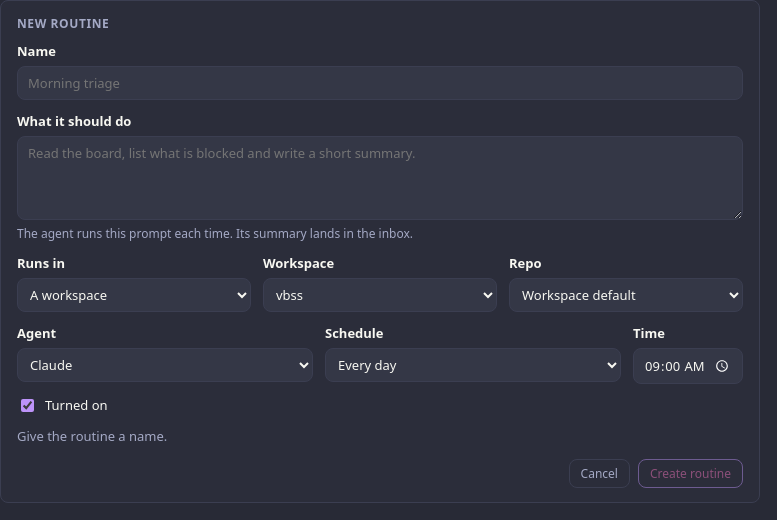
Test case: a folder target swaps the workspace pickers for a folder input and sends the cwd
In the field with placeholder "Morning triage": (380, 83) [17, 66, 743, 100], type "Triage"
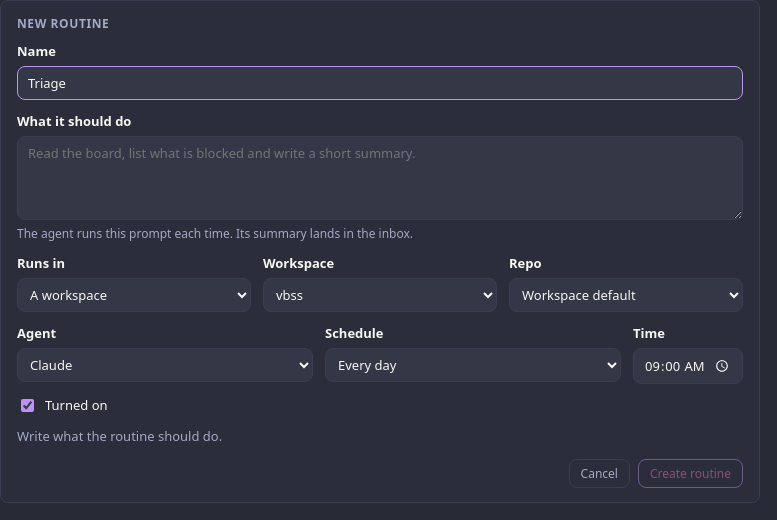
In the text box with placeholder "Read the board, list what is blocked and write a short summary.": (380, 178) [17, 136, 743, 220], type "Check the board"
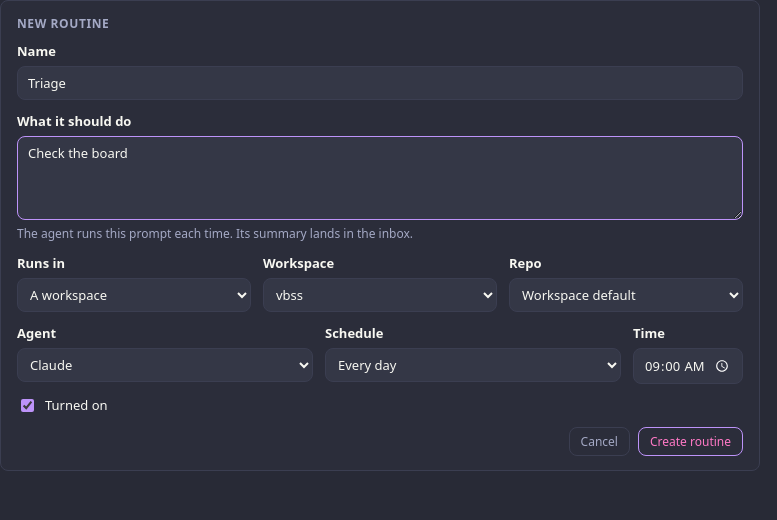
Select "A folder" in the dropdown labelled "Runs in": (134, 295) [17, 278, 251, 312]
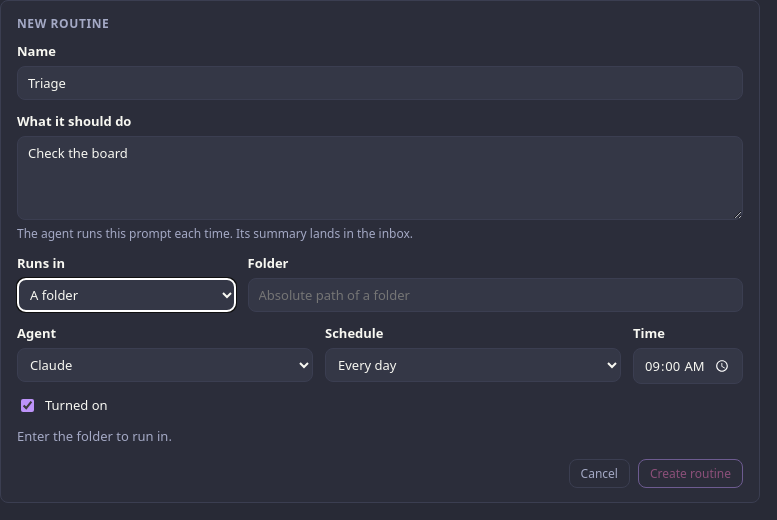
Check: the text "Workspace" is gone
Check: the text "Enter the folder to run in." is shown, box [17, 427, 172, 445]
In the field with placeholder "Absolute path of a folder": (495, 295) [248, 278, 743, 312], type "C:/work"
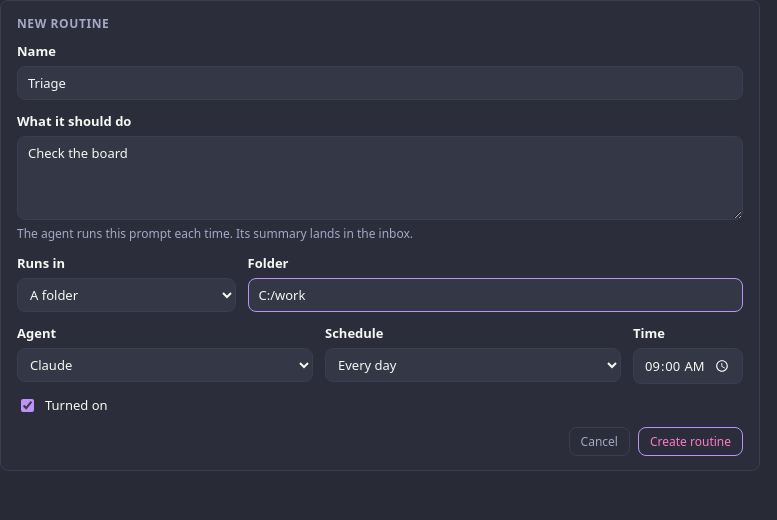
Click the button "Create routine": (690, 442) [638, 427, 743, 456]
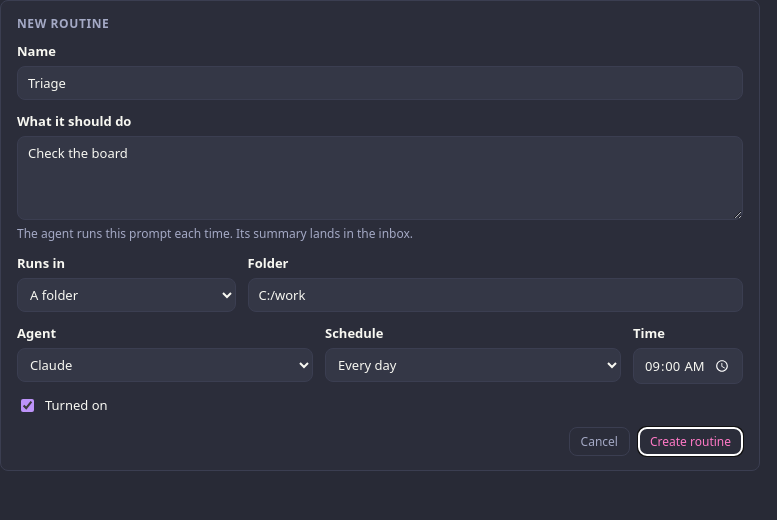
Select "A workspace" in the dropdown labelled "Runs in": (126, 295) [17, 278, 236, 312]
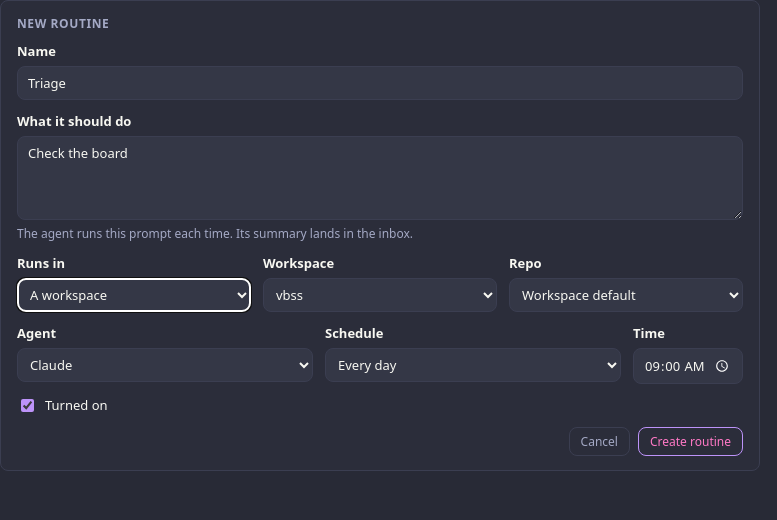
Check: the dropdown labelled "Workspace" is shown, box [263, 278, 497, 312]
